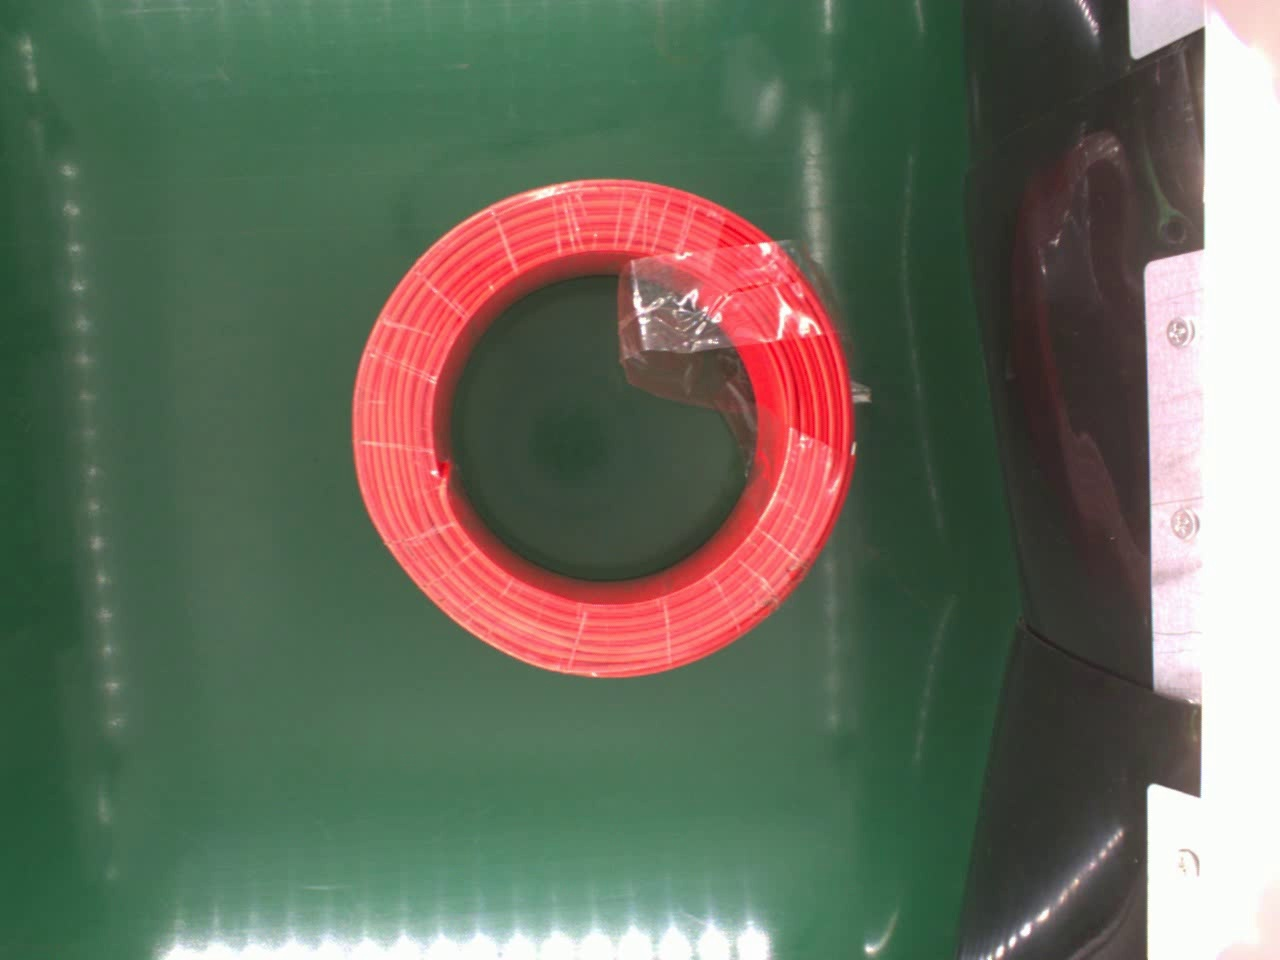red: (346, 173, 855, 677)
